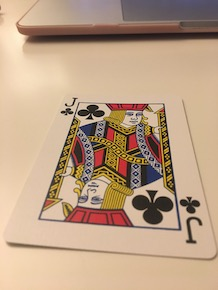JackOfClubs: (1, 89, 217, 262)
